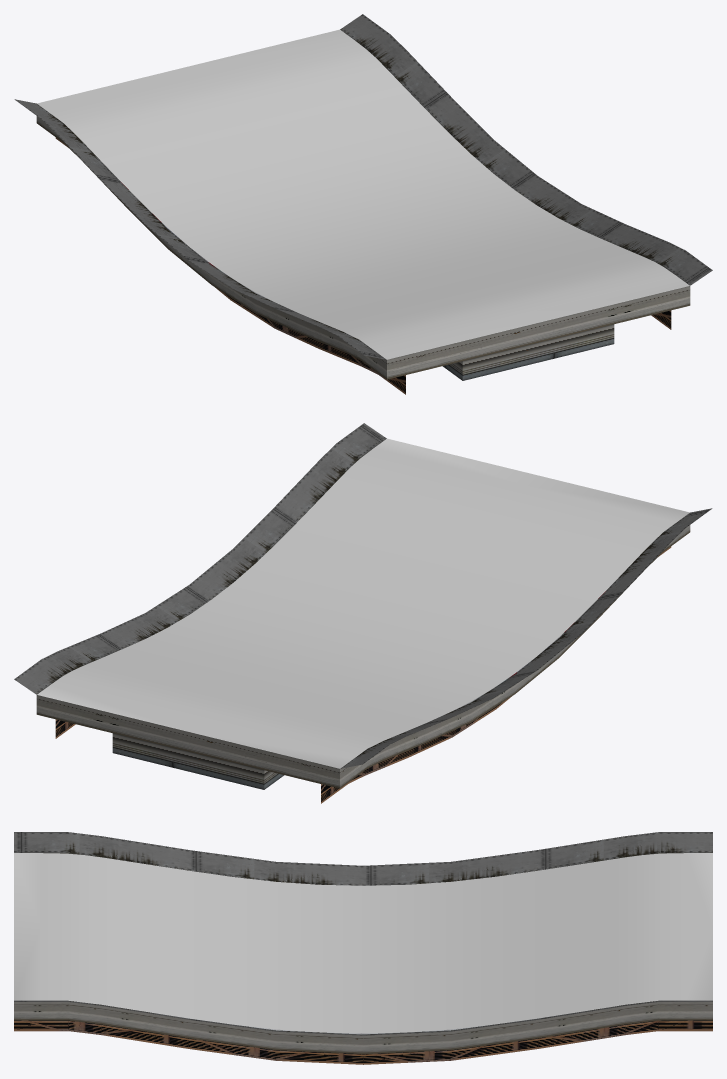
File: StrDip3.fbx
The picture shows the model from 3 angles, top to bottom: view 1: azimuth 30°, elevation 25°; view 2: azimuth 150°, elevation 25°; view 3: azimuth 270°, elevation 25°; orthographic projection.
Parts seen in each view (by area): view 1: Empty_Mesh; view 2: Empty_Mesh; view 3: Empty_Mesh.
Boxes of the visible parts, left/top/right/bottom form: Empty_Mesh: left=14, top=14, right=712, bottom=394; Empty_Mesh: left=14, top=423, right=712, bottom=803; Empty_Mesh: left=14, top=832, right=712, bottom=1064.
Bounding box in the file's own units: 18.4 × 4.2 × 32.
